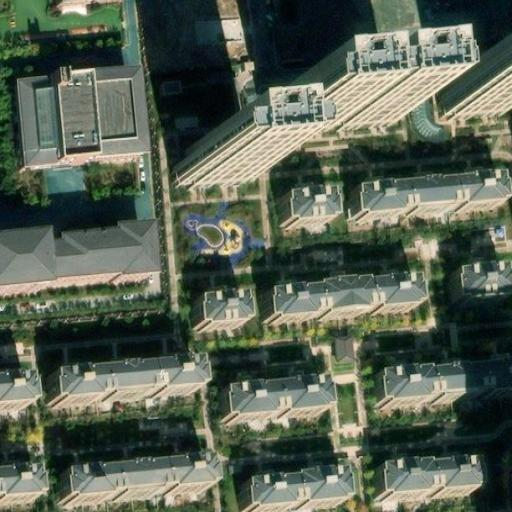building: (15, 69, 145, 174), (0, 224, 160, 293), (266, 270, 421, 329), (372, 358, 512, 416), (49, 354, 203, 406), (346, 174, 498, 224), (268, 84, 406, 139), (69, 459, 210, 510), (373, 454, 469, 504), (227, 378, 327, 423), (168, 151, 251, 203), (245, 469, 344, 512), (451, 73, 512, 118), (455, 262, 511, 308), (282, 191, 336, 229), (192, 297, 245, 331), (0, 469, 42, 504), (0, 375, 33, 412), (333, 336, 358, 364)
